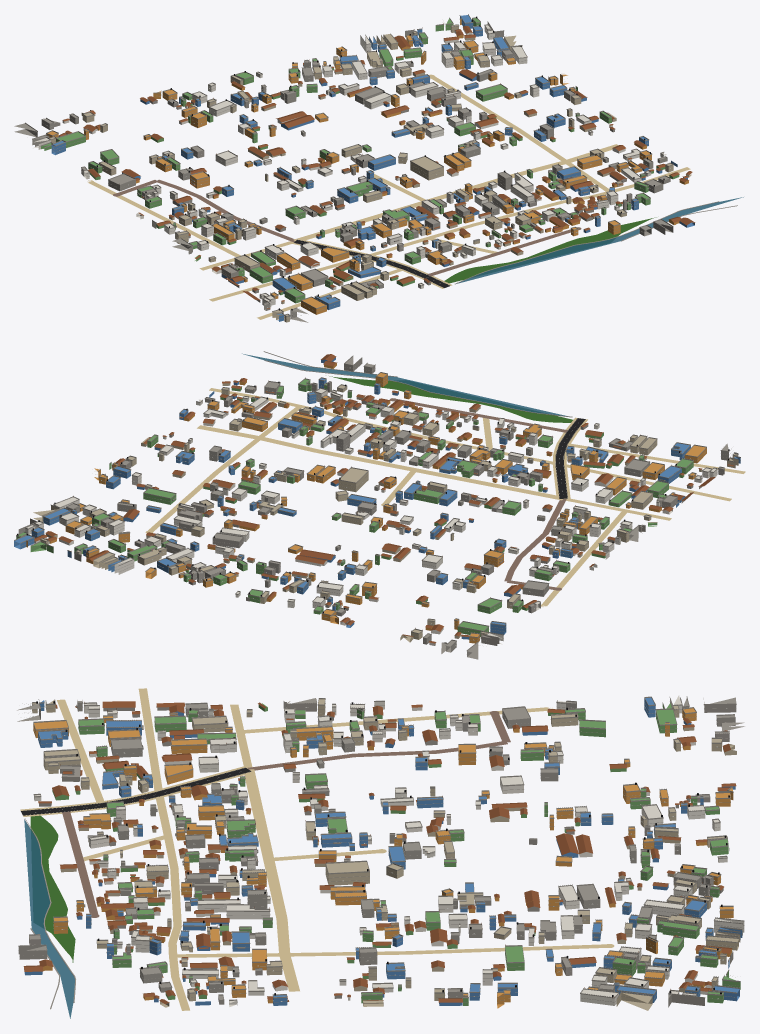
The model's file is zone_t-5_2.glb.
The picture shows the model from 3 angles, top to bottom: view 1: azimuth 30°, elevation 25°; view 2: azimuth 150°, elevation 25°; view 3: azimuth 270°, elevation 25°; orthographic projection. The views are drawn at different scales.
Visible parts, largest first — view 1: parapet_t-5_2, bld_peinture_blanc_t-5_2-col, bld_peinture_ocre_t-5_2-col, toit_tole_t-5_2, bld_beton_t-5_2-col, bld_peinture_ecaillee_t-5_2-col, bld_peinture_vert_t-5_2-col, bld_peinture_bleu_t-5_2-col, route_residential_terre_t-5_2, bandeau_t-5_2, zone_eau_t-5_2, route_residential_paves_t-5_2 (+4 smaller); view 2: parapet_t-5_2, bld_peinture_blanc_t-5_2-col, bld_beton_t-5_2-col, toit_tole_t-5_2, bld_peinture_ocre_t-5_2-col, bld_peinture_vert_t-5_2-col, bld_peinture_ecaillee_t-5_2-col, bld_peinture_bleu_t-5_2-col, route_residential_terre_t-5_2, bandeau_t-5_2, route_tertiary_terre_t-5_2, zone_eau_t-5_2 (+5 smaller); view 3: parapet_t-5_2, toit_tole_t-5_2, bld_peinture_blanc_t-5_2-col, bld_beton_t-5_2-col, bld_peinture_ocre_t-5_2-col, bld_peinture_vert_t-5_2-col, bld_peinture_ecaillee_t-5_2-col, bld_peinture_bleu_t-5_2-col, route_residential_terre_t-5_2, bandeau_t-5_2, route_tertiary_terre_t-5_2, zone_eau_t-5_2 (+5 smaller).
Part boxes in pixels (left/top/right/bottom): parapet_t-5_2: left=25, top=14, right=673, bottom=317; bld_peinture_blanc_t-5_2-col: left=33, top=25, right=666, bottom=307; bld_peinture_ocre_t-5_2-col: left=46, top=19, right=688, bottom=314; toit_tole_t-5_2: left=59, top=25, right=695, bottom=301; bld_beton_t-5_2-col: left=14, top=22, right=673, bottom=322; bld_peinture_ecaillee_t-5_2-col: left=50, top=25, right=691, bottom=322; bld_peinture_vert_t-5_2-col: left=41, top=18, right=679, bottom=303; bld_peinture_bleu_t-5_2-col: left=51, top=15, right=694, bottom=321; route_residential_terre_t-5_2: left=87, top=74, right=690, bottom=319; bandeau_t-5_2: left=31, top=22, right=672, bottom=321; zone_eau_t-5_2: left=457, top=197, right=743, bottom=283; route_residential_paves_t-5_2: left=113, top=179, right=581, bottom=276; parapet_t-5_2: left=14, top=355, right=740, bottom=650; bld_peinture_blanc_t-5_2-col: left=25, top=389, right=717, bottom=645; bld_beton_t-5_2-col: left=18, top=356, right=728, bottom=659; toit_tole_t-5_2: left=34, top=354, right=715, bottom=643; bld_peinture_ocre_t-5_2-col: left=26, top=363, right=706, bottom=643; bld_peinture_vert_t-5_2-col: left=16, top=379, right=693, bottom=636; bld_peinture_ecaillee_t-5_2-col: left=33, top=383, right=738, bottom=642; bld_peinture_bleu_t-5_2-col: left=14, top=357, right=740, bottom=639; route_residential_terre_t-5_2: left=145, top=388, right=745, bottom=606; bandeau_t-5_2: left=15, top=362, right=740, bottom=649; route_tertiary_terre_t-5_2: left=197, top=425, right=562, bottom=500; zone_eau_t-5_2: left=242, top=353, right=567, bottom=416; parapet_t-5_2: left=18, top=696, right=744, bottom=1002; toit_tole_t-5_2: left=23, top=701, right=736, bottom=1004; bld_peinture_blanc_t-5_2-col: left=34, top=695, right=744, bottom=1006; bld_beton_t-5_2-col: left=17, top=697, right=744, bottom=1007; bld_peinture_ocre_t-5_2-col: left=33, top=708, right=733, bottom=1008; bld_peinture_vert_t-5_2-col: left=52, top=703, right=740, bottom=1005; bld_peinture_ecaillee_t-5_2-col: left=32, top=699, right=740, bottom=1010; bld_peinture_bleu_t-5_2-col: left=24, top=697, right=742, bottom=1005; route_residential_terre_t-5_2: left=57, top=688, right=614, bottom=1010; bandeau_t-5_2: left=18, top=702, right=744, bottom=1003; route_tertiary_terre_t-5_2: left=244, top=769, right=299, bottom=991; zone_eau_t-5_2: left=24, top=820, right=74, bottom=1018.
Size of the model in its own units: 558 by 14 by 522.
